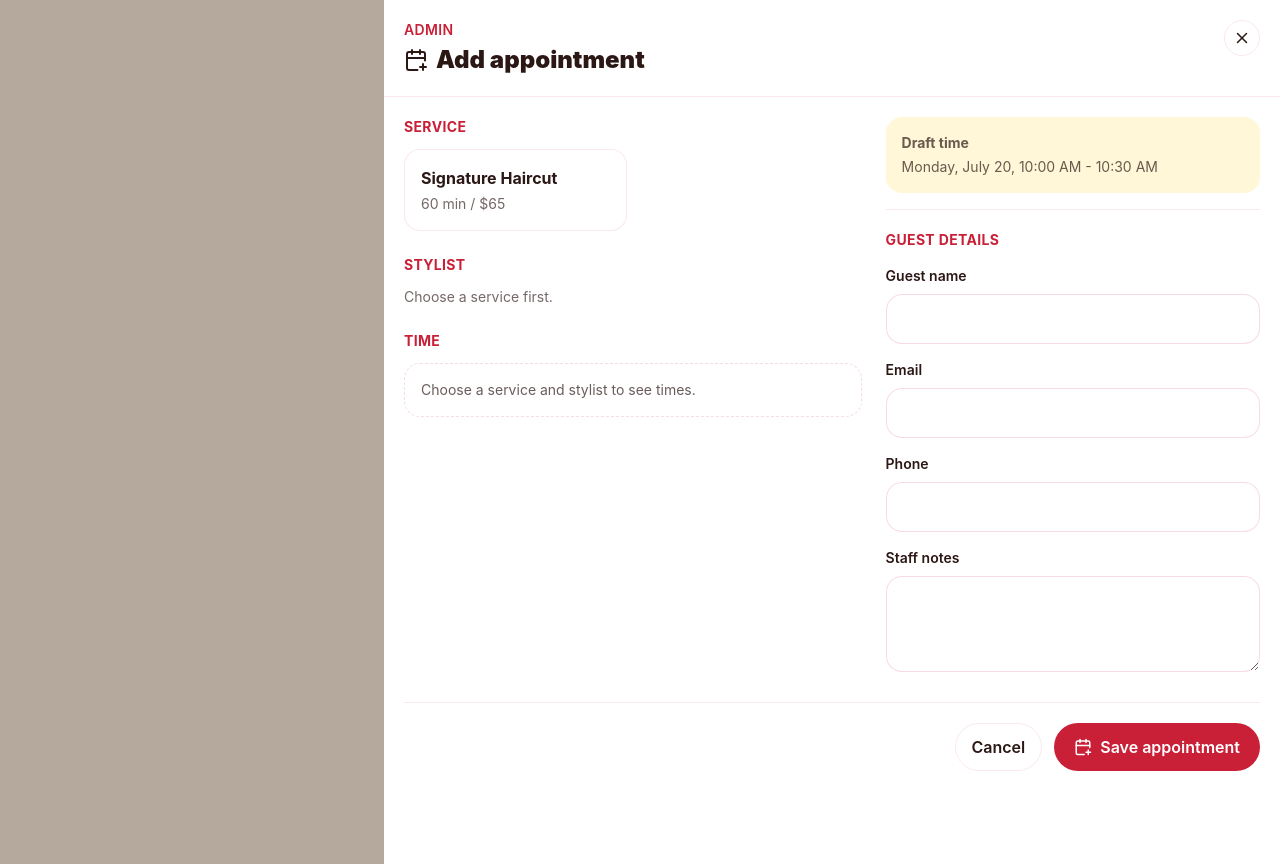
Test: AdminAddAppointmentDialog › opens with a dragged date and auto-selects the matching available slot
Expected: the text "Draft time" is shown, top-left (902, 134), bottom-right (969, 151)
Expected: the text "Monday, July 20, 10:00 AM - 10:30 AM" is shown, top-left (902, 158), bottom-right (1158, 175)
Click the button "Signature Haircut 60 min / $65".
click(515, 190)  # box top-left (404, 149), bottom-right (627, 231)
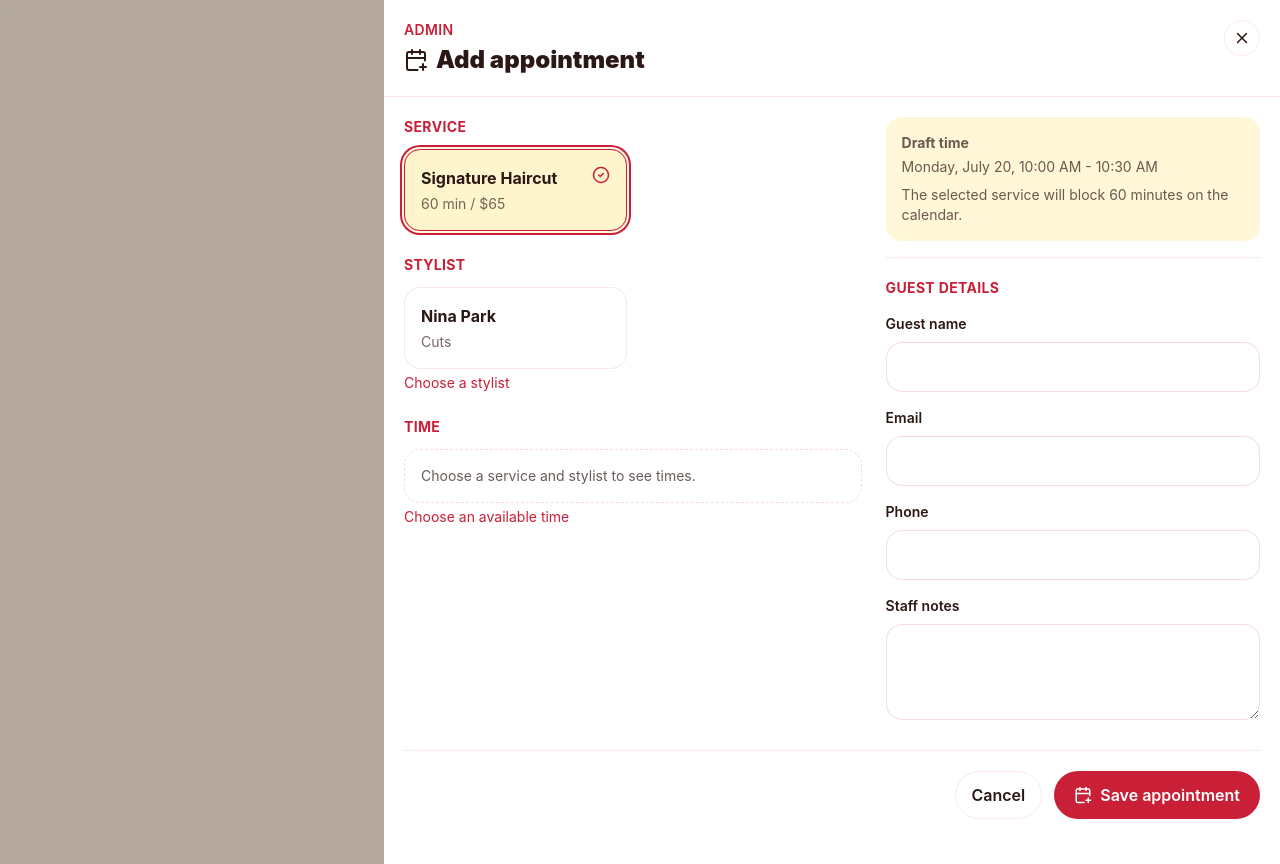
Click the button "Nina Park Cuts".
click(515, 328)  # box top-left (404, 287), bottom-right (627, 369)
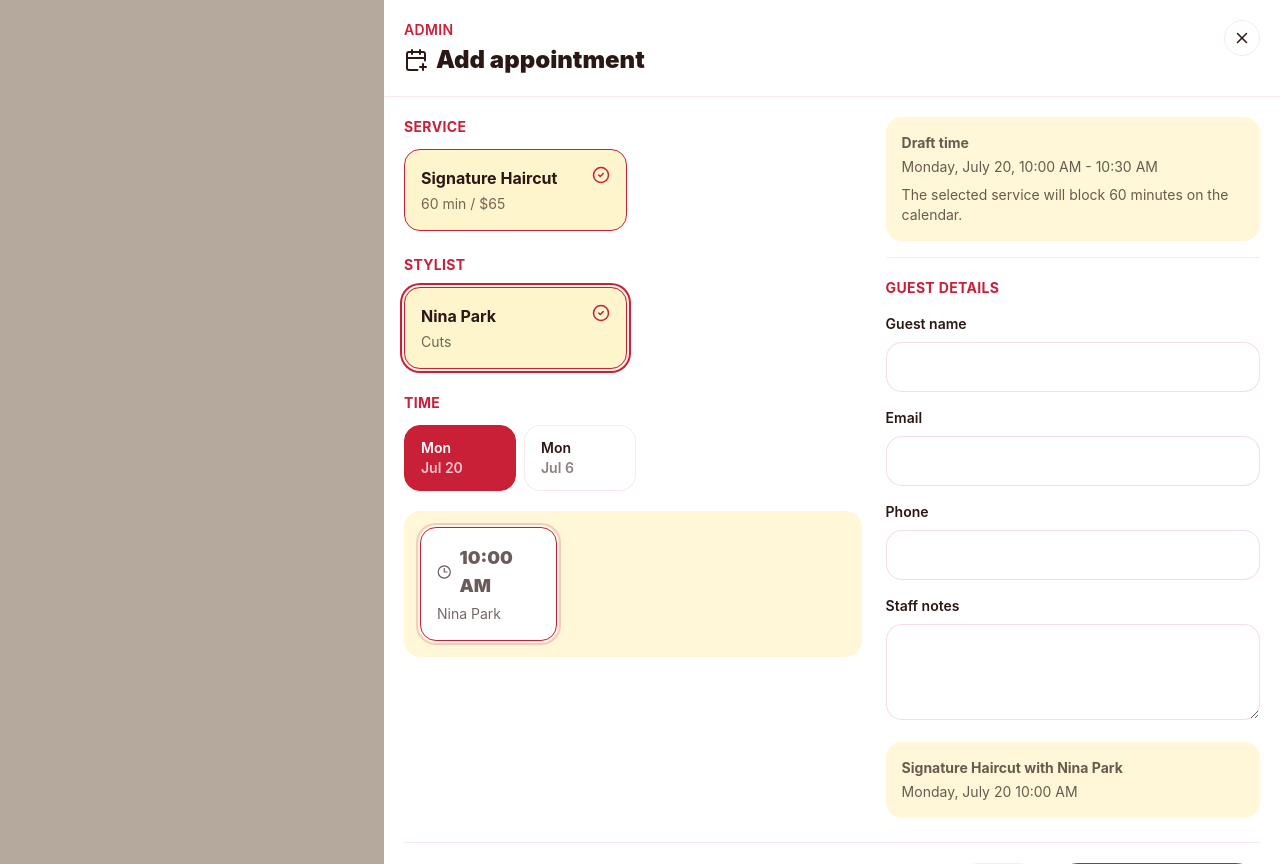
Expected: the text "The selected service will block 60 minutes on the calendar." is shown, top-left (902, 185), bottom-right (1244, 225)
Expected: the button "Mon Jul 20" is shown, top-left (404, 425), bottom-right (516, 491)
Expected: the text "Signature Haircut with Nina Park" is shown, top-left (902, 759), bottom-right (1123, 776)
